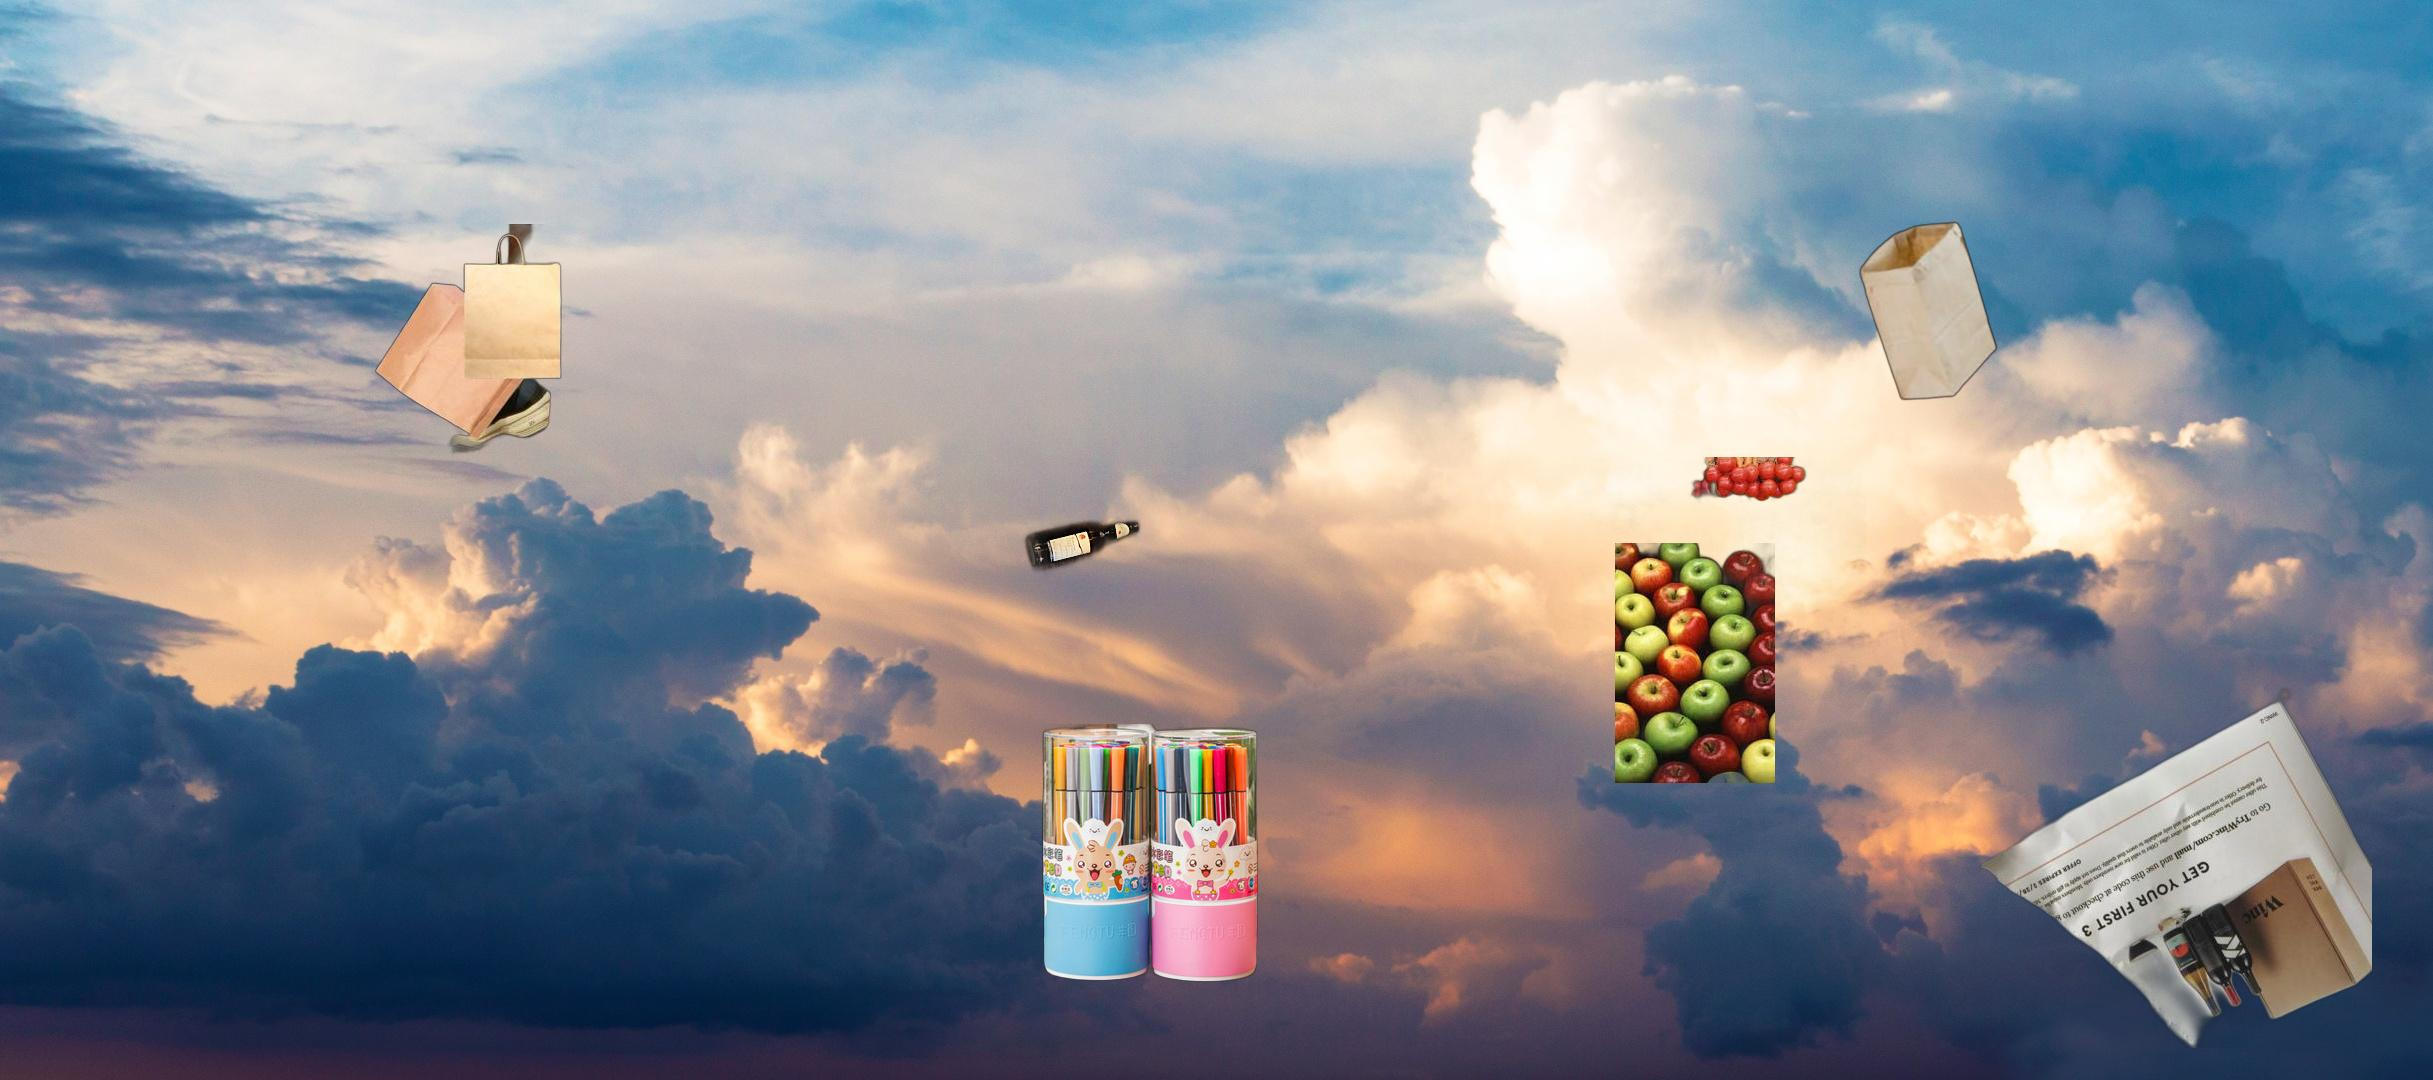biological: (1576, 458, 1867, 632), (1615, 543, 1775, 784)
glass: (711, 368, 1145, 663)
paper: (1977, 684, 2372, 1047)
paper-bag: (372, 223, 563, 458), (1857, 219, 1999, 403)
penholder: (1040, 725, 1261, 984)
